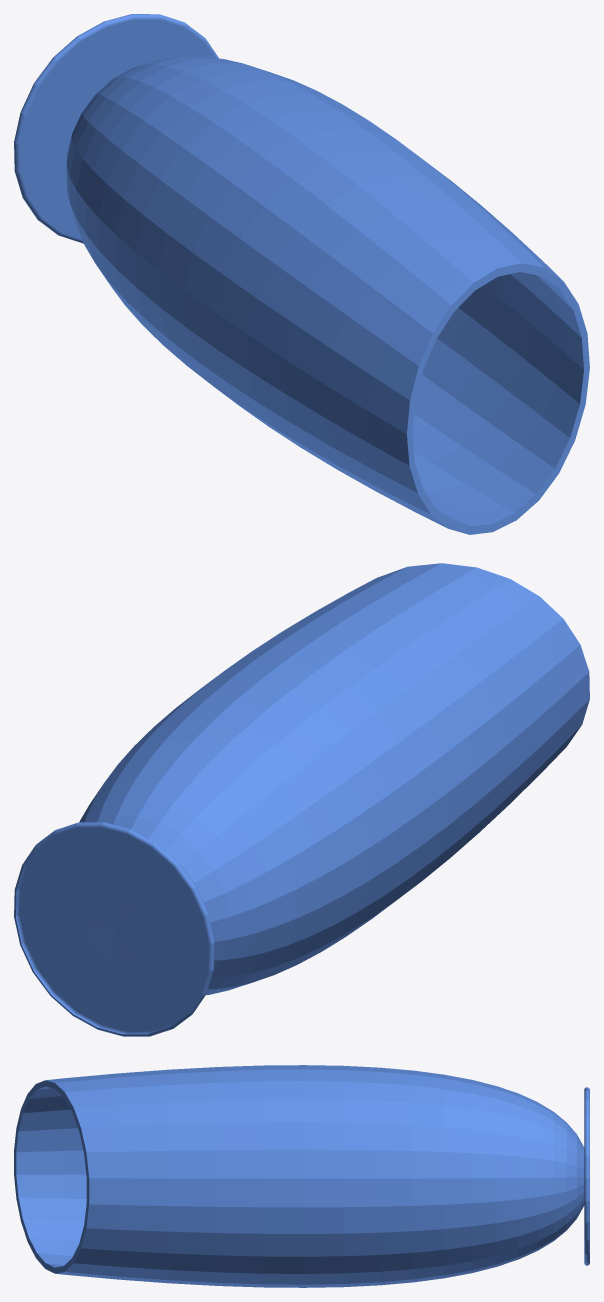
The picture shows the model from 3 angles, top to bottom: view 1: azimuth 30°, elevation 25°; view 2: azimuth 150°, elevation 25°; view 3: azimuth 270°, elevation 25°; orthographic projection. The views are drawn at different scales.
Parts seen in each view (by area): view 1: vaso; view 2: vaso; view 3: vaso.
Part boxes in pixels (left/top/right/bottom): vaso: left=14, top=14, right=589, bottom=534; vaso: left=14, top=563, right=589, bottom=1036; vaso: left=14, top=1065, right=589, bottom=1287.
Size of the model in its own units: 6.41 by 6.41 by 16.65.
